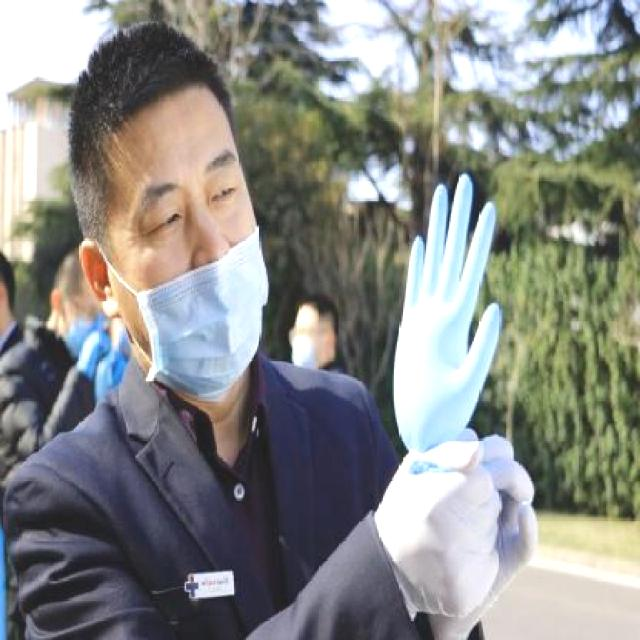face_mask: (145, 240, 272, 391)
hand_glove: (382, 167, 511, 453), (423, 432, 542, 631), (391, 438, 503, 618)
head_nohelmet: (64, 37, 274, 174)
person: (17, 17, 531, 640)
